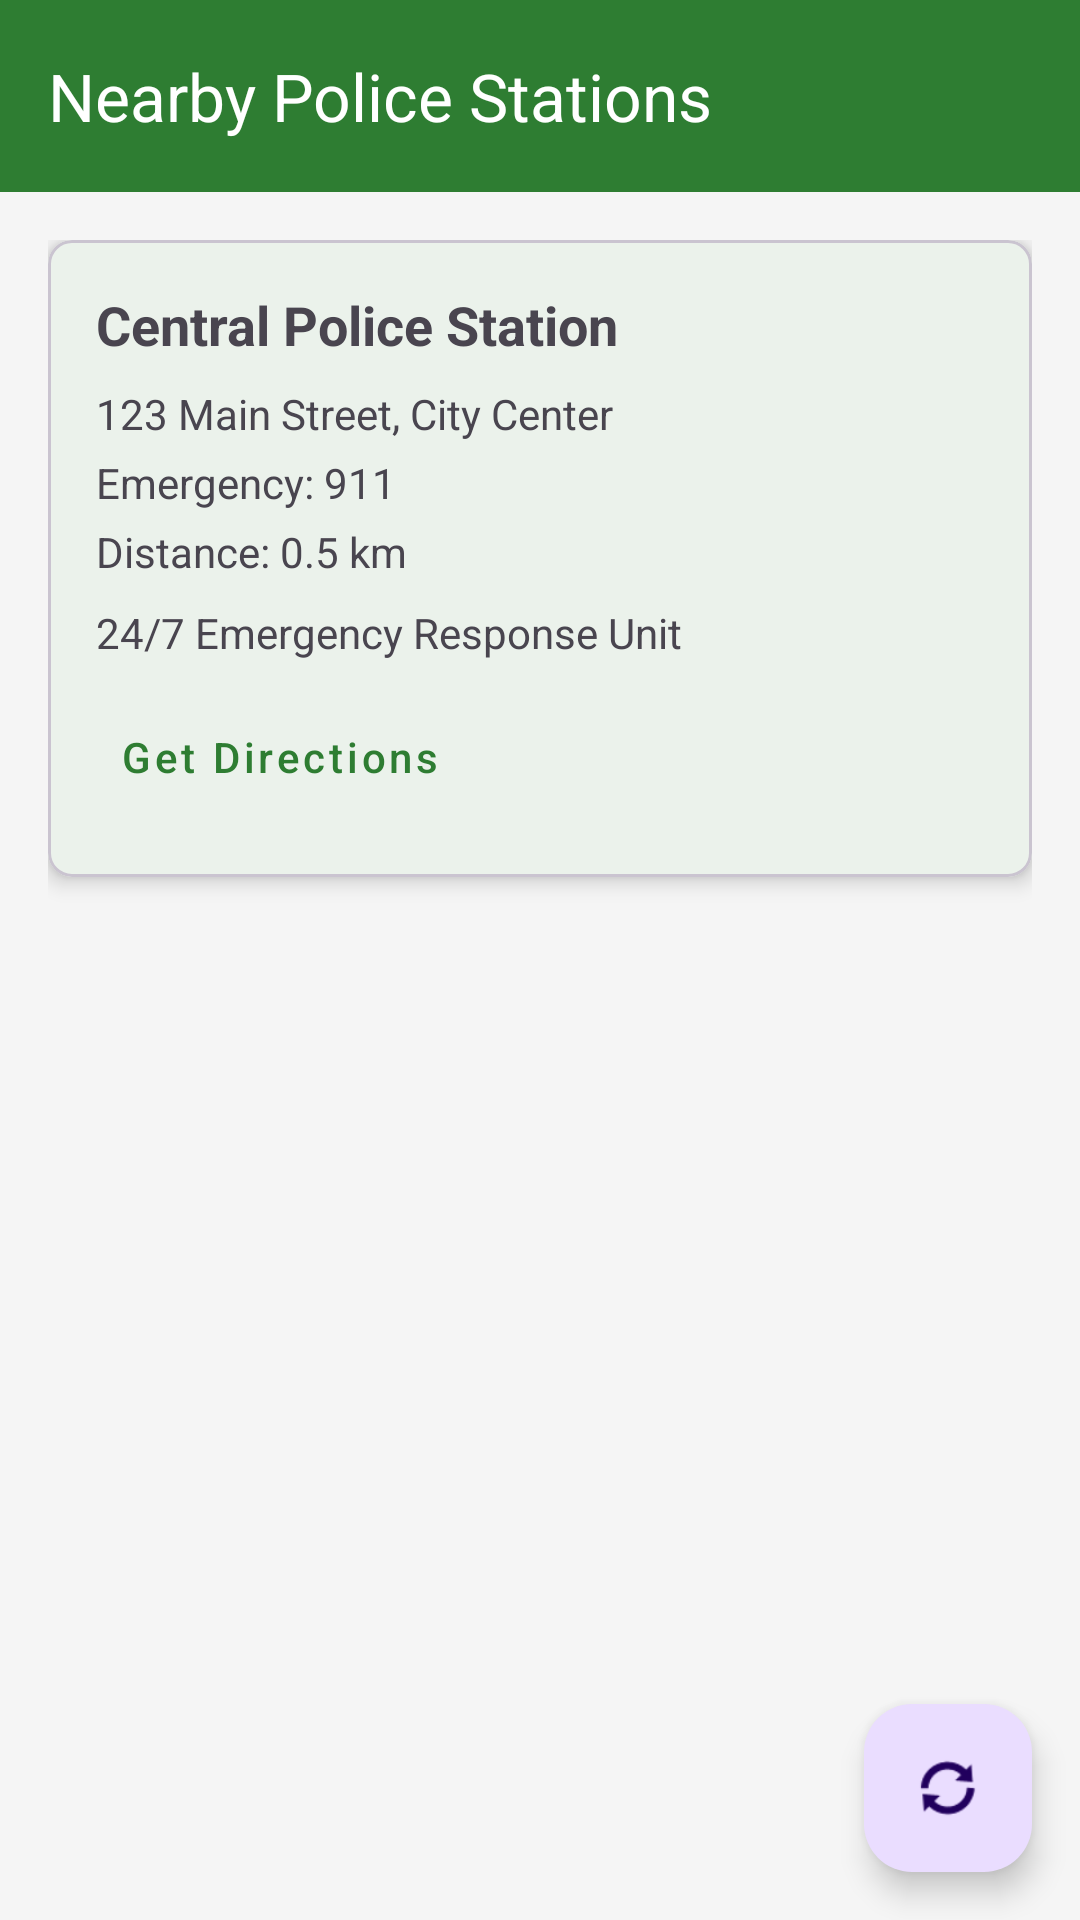

Where to tap for icons on this 1080x1920 app screen, as (x,y):
popup sync: (948,1788)
